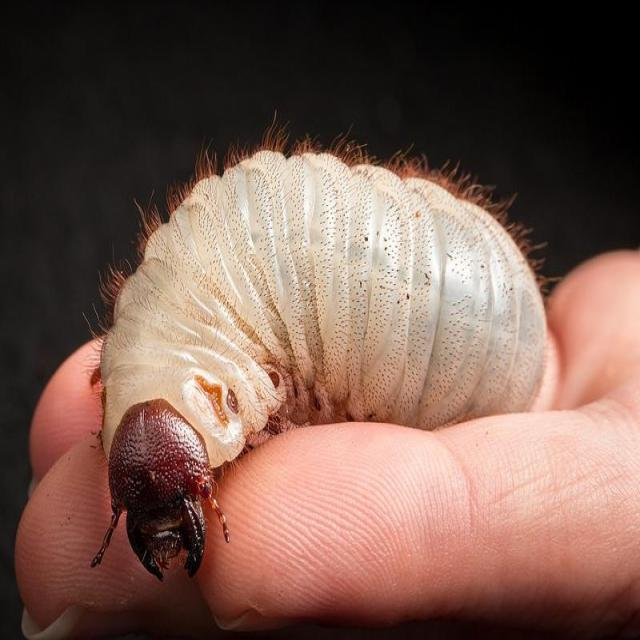grub: (96, 118, 554, 572)
